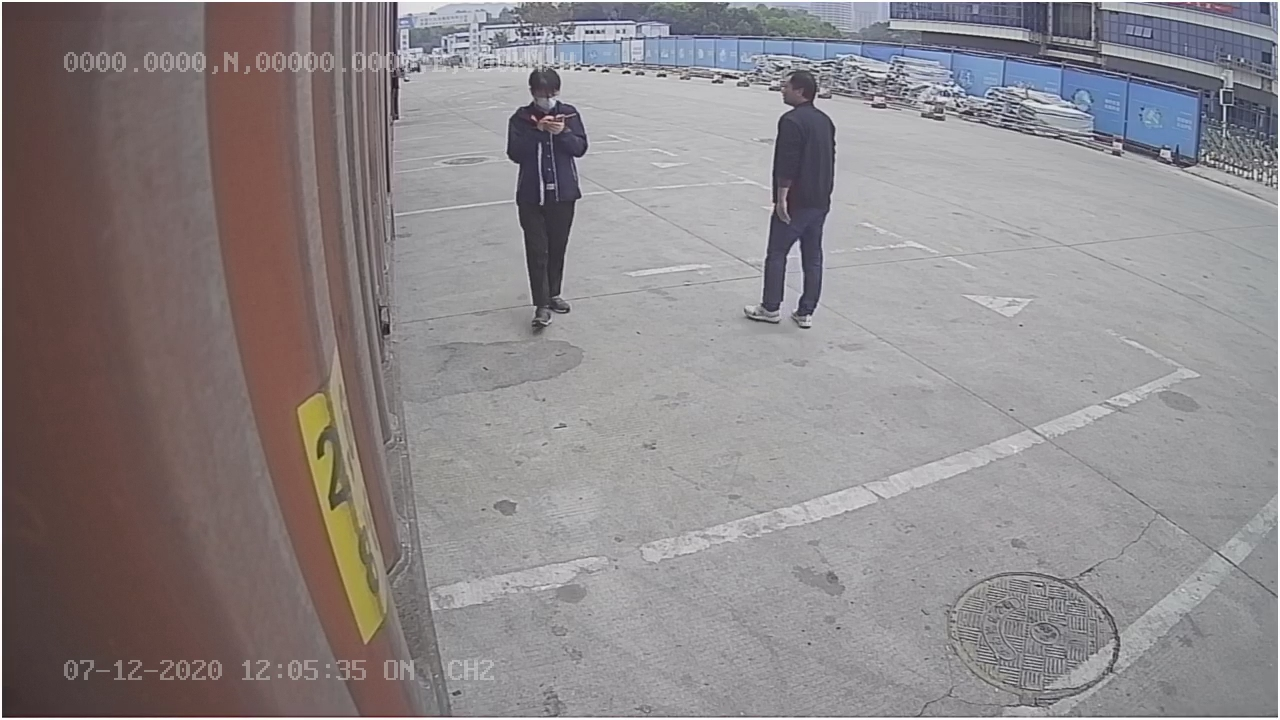person: (739, 69, 836, 332), (497, 64, 590, 329)
